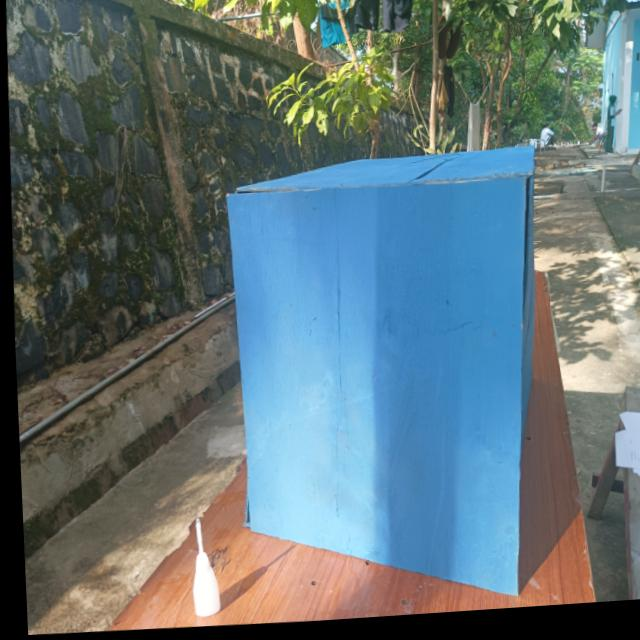blue_box: (179, 93, 594, 622)
